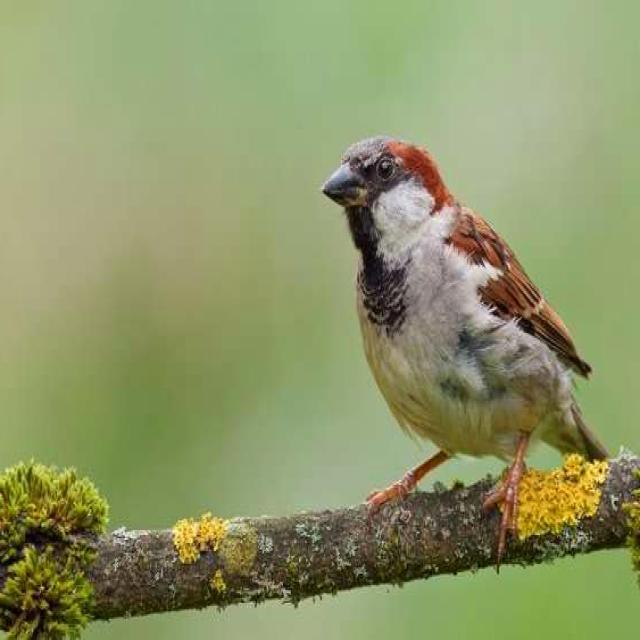sparrow: (323, 137, 608, 549)
